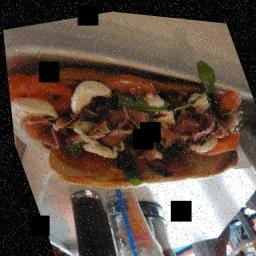hotdog: (1, 13, 256, 228)
